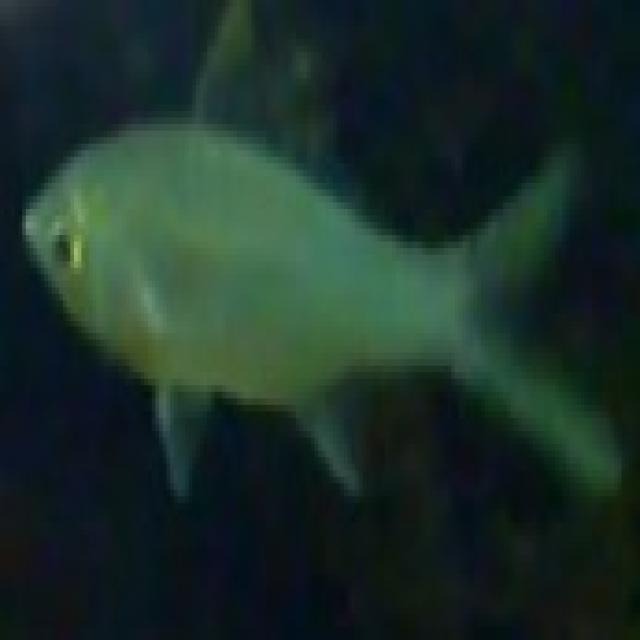Glass-Perchlet: (3, 39, 609, 542)
